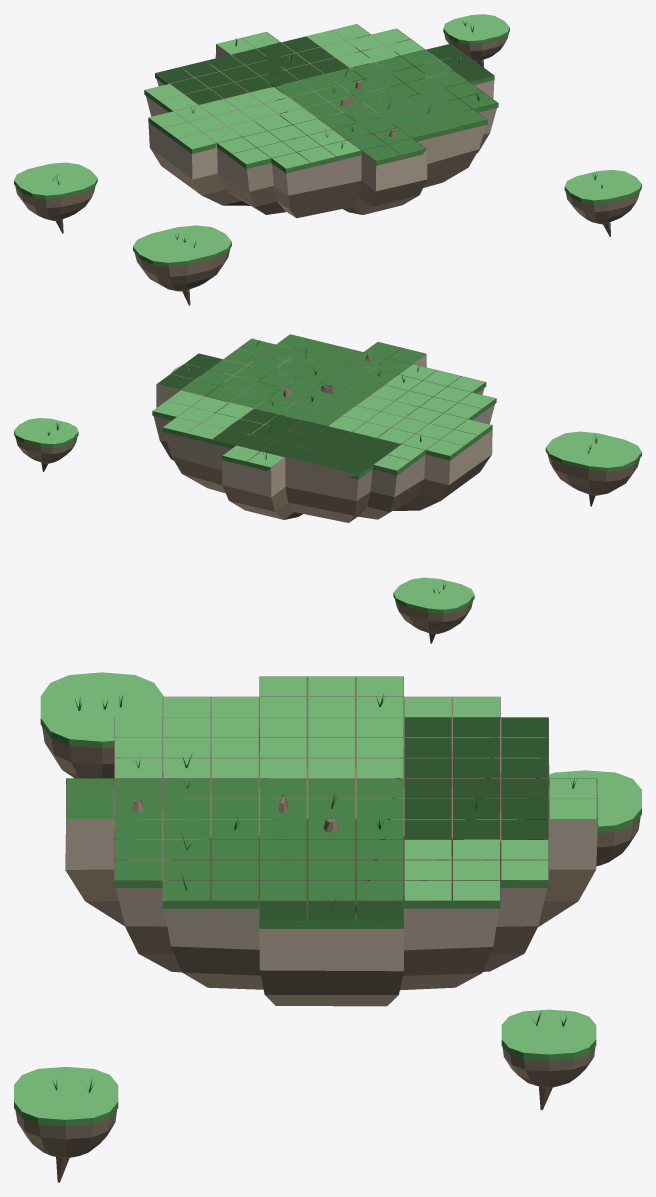
Rendered from SkyIsland.fbx.
3 views of the same model, one above another, from view 1: azimuth 30°, elevation 25°; view 2: azimuth 150°, elevation 25°; view 3: azimuth 270°, elevation 25° (orthographic). The views are drawn at different scales.
Visible parts, largest first — view 1: SkyIsland_GrandIsle, SkyIsland_FloatIsle0, SkyIsland_FloatIsle2, SkyIsland_FloatIsle1, SkyIsland_FloatIsle3; view 2: SkyIsland_GrandIsle, SkyIsland_FloatIsle0, SkyIsland_FloatIsle2, SkyIsland_FloatIsle3; view 3: SkyIsland_GrandIsle, SkyIsland_FloatIsle0, SkyIsland_FloatIsle1, SkyIsland_FloatIsle3, SkyIsland_FloatIsle2.
Boxes of the visible parts, x1,y1,x2,y2 form: SkyIsland_GrandIsle: (144, 24, 498, 218); SkyIsland_FloatIsle0: (133, 225, 231, 305); SkyIsland_FloatIsle2: (14, 162, 97, 233); SkyIsland_FloatIsle1: (564, 170, 641, 236); SkyIsland_FloatIsle3: (443, 14, 509, 67); SkyIsland_GrandIsle: (152, 334, 496, 522); SkyIsland_FloatIsle0: (545, 431, 641, 506); SkyIsland_FloatIsle2: (393, 577, 474, 643); SkyIsland_FloatIsle3: (14, 418, 78, 471); SkyIsland_GrandIsle: (65, 676, 597, 1006); SkyIsland_FloatIsle0: (40, 672, 163, 778); SkyIsland_FloatIsle1: (14, 1067, 118, 1182); SkyIsland_FloatIsle3: (501, 1009, 596, 1110); SkyIsland_FloatIsle2: (549, 770, 641, 866).
Size of the model in its own units: 3960 by 1198 by 2601.
